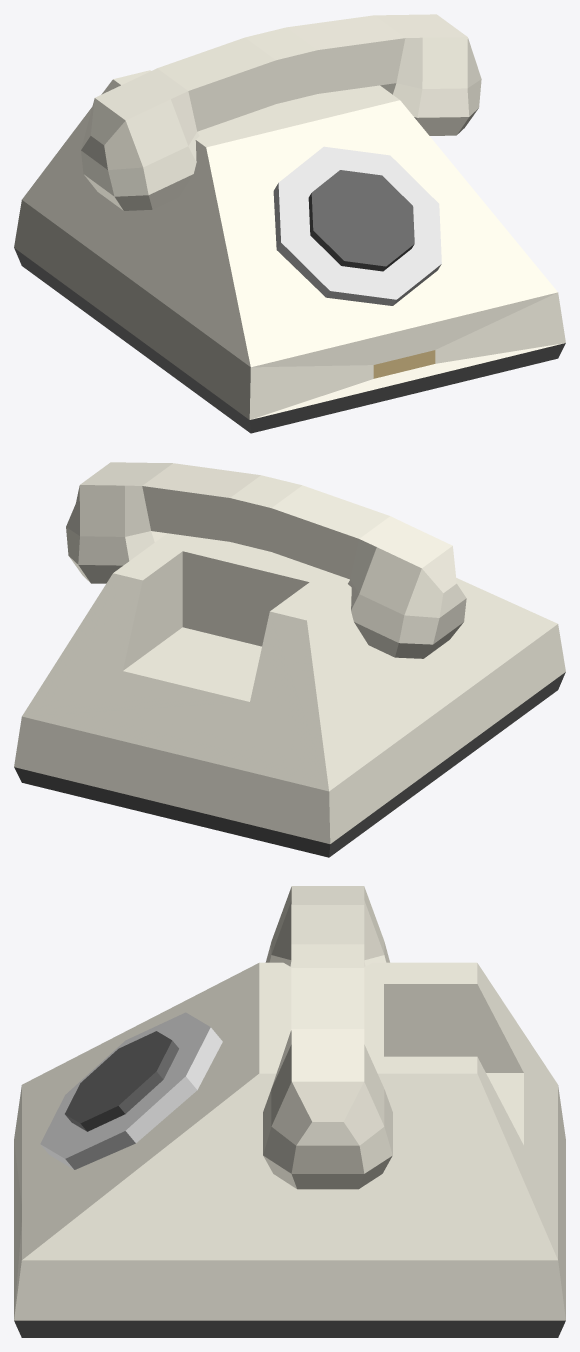
Rendered from Wh_Phone.fbx.
The picture shows the model from 3 angles, top to bottom: view 1: azimuth 30°, elevation 25°; view 2: azimuth 150°, elevation 25°; view 3: azimuth 270°, elevation 25°; orthographic projection. The views are drawn at different scales.
Visible parts, largest first — view 1: Cube.912; view 2: Cube.912; view 3: Cube.912.
Boxes of the visible parts, box(x1,y1,x2,y2) form: Cube.912: box(14, 14, 565, 433); Cube.912: box(14, 462, 565, 857); Cube.912: box(14, 886, 565, 1337).
Bounding box in the file's own units: 20.68 × 13.48 × 22.6.
